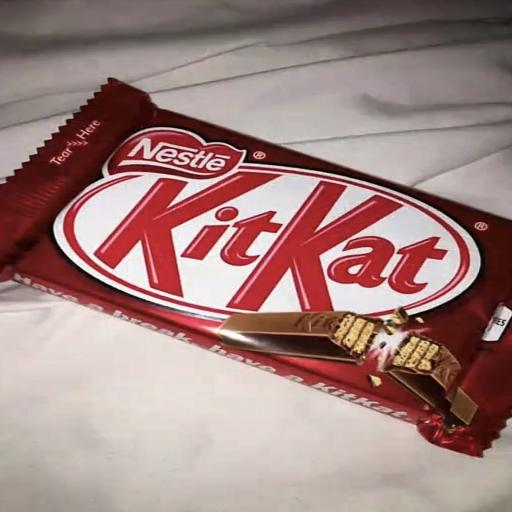kitkat: (0, 48, 512, 458)
